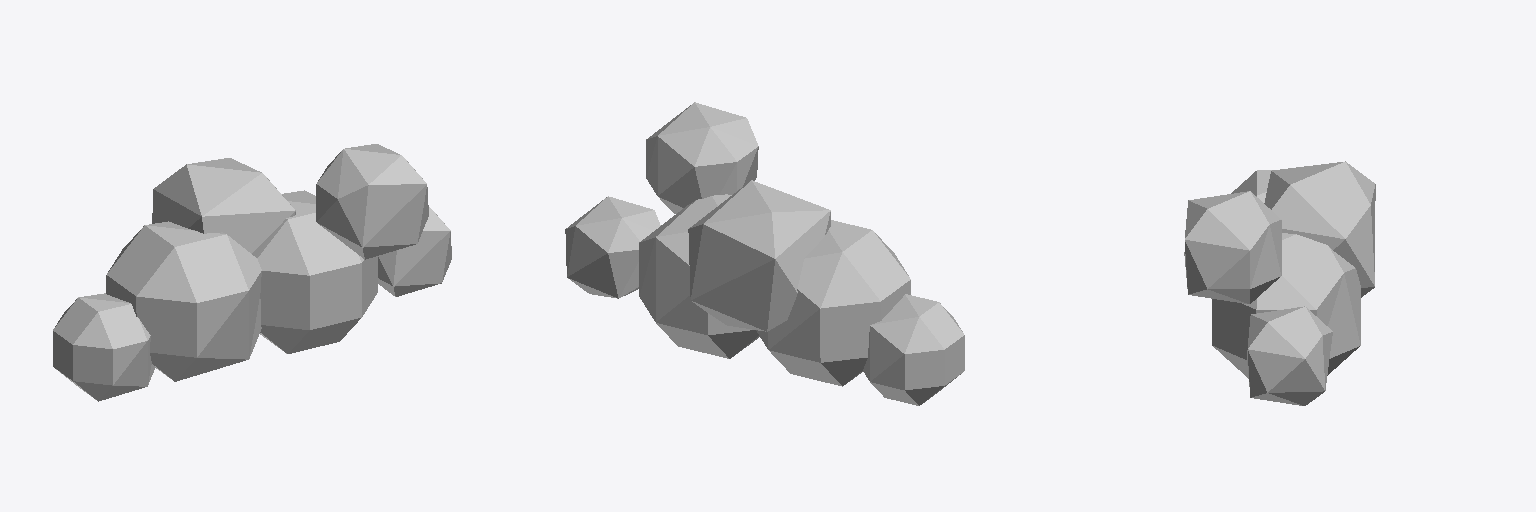
File: Cloud18.obj
The picture shows the model from 3 angles: view 1: azimuth 30°, elevation 25°; view 2: azimuth 150°, elevation 25°; view 3: azimuth 270°, elevation 25°; orthographic projection.
Visible parts, largest first — view 1: Cloud18_Object_58_Object_27.001; view 2: Cloud18_Object_58_Object_27.001; view 3: Cloud18_Object_58_Object_27.001.
Part boxes in pixels (x1,y1,x2,y2): Cloud18_Object_58_Object_27.001: (53,144,451,401); Cloud18_Object_58_Object_27.001: (565,102,964,405); Cloud18_Object_58_Object_27.001: (1184,161,1375,405).
Size of the model in its own units: 1.67 by 0.8458 by 0.728.